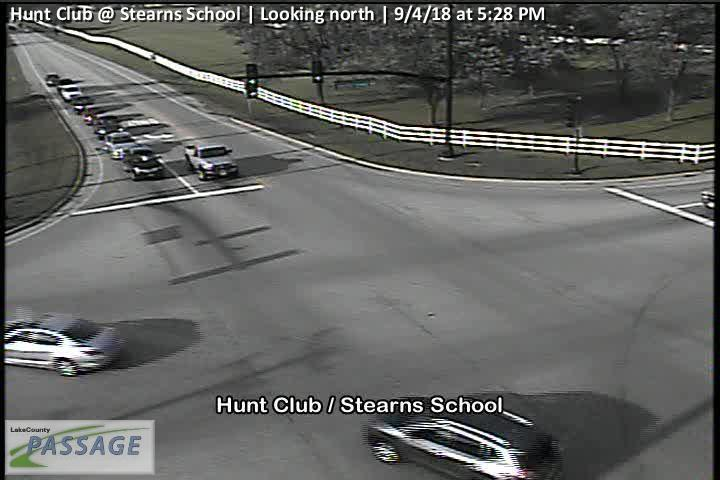SUV: (364, 396, 565, 480), (184, 142, 238, 179)
Sedan: (5, 313, 122, 377), (118, 146, 164, 180), (104, 132, 137, 158), (95, 116, 123, 136), (58, 82, 83, 100), (82, 104, 102, 122), (71, 96, 89, 111), (46, 73, 57, 84)
